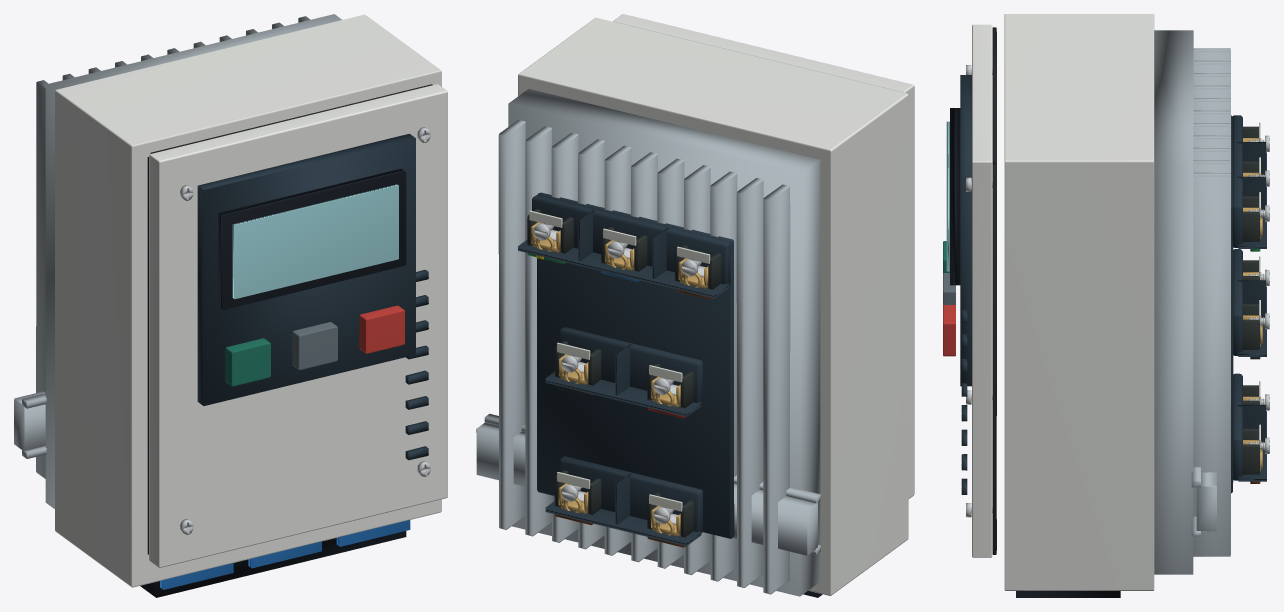
The model's file is battery_default.low.glb.
3 renders of one model, left to right at view 1: azimuth 30°, elevation 25°; view 2: azimuth 150°, elevation 25°; view 3: azimuth 270°, elevation 25°, orthographic. The views are drawn at different scales.
Visible parts, largest first — view 1: part:cover, part:body, part:cover · Original a463fd81, part:display, part:body · Original 2a8198d3, part:battery · Original 7cfa2338, part:battery, part:mounting · Original 2a8198d3, part:body.003, part:body.001, part:body.002, detail:enclosure-gasket-and-fixings · Detail rubber gasket (+1 smaller); view 2: part:body · Original 2a8198d3, part:body, part:terminals · Original a463fd81, part:cover, part:mounting · Original 2a8198d3, detail:terminal-clamp:- · Detail moulded engineering polymer, detail:terminal-clamp:PE · Detail moulded engineering polyme, detail:terminal-clamp:+ · Detail moulded engineering polymer, detail:terminal-clamp:BL · Detail moulded engineering polyme, detail:terminal-clamp:BN · Detail moulded engineering polyme, detail:terminal-clamp:N · Detail moulded engineering polymer, detail:terminal-clamp:L · Detail moulded engineering polymer; view 3: part:body, part:body · Original 2a8198d3, part:cover, part:terminals · Original a463fd81, part:cover · Original a463fd81, detail:enclosure-gasket-and-fixings · Detail rubber gasket, part:display, part:mounting · Original 2a8198d3, detail:terminal-clamp:- · Detail moulded engineering polymer, part:battery, detail:terminal-clamp:BN · Detail moulded engineering polyme, detail:terminal-clamp:PE · Detail moulded engineering polyme (+1 smaller).
Part boxes in pixels (x1=…): part:cover: x1=149, y1=84, x2=447, y2=567; part:body: x1=55, y1=14, x2=441, y2=587; part:cover · Original a463fd81: x1=197, y1=133, x2=428, y2=460; part:display: x1=218, y1=168, x2=406, y2=309; part:body · Original 2a8198d3: x1=36, y1=14, x2=341, y2=508; part:battery · Original 7cfa2338: x1=160, y1=520, x2=410, y2=589; part:battery: x1=140, y1=531, x2=406, y2=597; part:mounting · Original 2a8198d3: x1=14, y1=391, x2=46, y2=458; part:body.003: x1=359, y1=305, x2=404, y2=353; part:body.001: x1=225, y1=338, x2=270, y2=386; part:body.002: x1=292, y1=322, x2=337, y2=369; detail:enclosure-gasket-and-fixings · Detail rubber gasket: x1=147, y1=84, x2=432, y2=554; part:body · Original 2a8198d3: x1=498, y1=89, x2=820, y2=596; part:body: x1=518, y1=17, x2=908, y2=595; part:terminals · Original a463fd81: x1=518, y1=192, x2=734, y2=546; part:cover: x1=613, y1=14, x2=914, y2=498; part:mounting · Original 2a8198d3: x1=476, y1=413, x2=820, y2=555; detail:terminal-clamp:- · Detail moulded engineering polymer: x1=555, y1=341, x2=601, y2=395; detail:terminal-clamp:PE · Detail moulded engineering polyme: x1=527, y1=209, x2=573, y2=253; detail:terminal-clamp:+ · Detail moulded engineering polymer: x1=647, y1=363, x2=693, y2=408; detail:terminal-clamp:BL · Detail moulded engineering polyme: x1=647, y1=493, x2=693, y2=537; detail:terminal-clamp:BN · Detail moulded engineering polyme: x1=555, y1=470, x2=601, y2=515; detail:terminal-clamp:N · Detail moulded engineering polymer: x1=601, y1=227, x2=647, y2=271; detail:terminal-clamp:L · Detail moulded engineering polymer: x1=675, y1=245, x2=721, y2=289; part:body: x1=1004, y1=14, x2=1154, y2=590; part:body · Original 2a8198d3: x1=1154, y1=30, x2=1230, y2=574; part:cover: x1=972, y1=24, x2=992, y2=557; part:terminals · Original a463fd81: x1=1231, y1=115, x2=1266, y2=493; part:cover · Original a463fd81: x1=960, y1=75, x2=971, y2=494; detail:enclosure-gasket-and-fixings · Detail rubber gasket: x1=992, y1=27, x2=996, y2=554; part:display: x1=946, y1=108, x2=960, y2=285; part:mounting · Original 2a8198d3: x1=1191, y1=467, x2=1216, y2=536; detail:terminal-clamp:- · Detail moulded engineering polymer: x1=1243, y1=304, x2=1260, y2=359; part:battery: x1=1016, y1=591, x2=1120, y2=597; detail:terminal-clamp:BN · Detail moulded engineering polyme: x1=1243, y1=428, x2=1260, y2=474; detail:terminal-clamp:PE · Detail moulded engineering polyme: x1=1243, y1=196, x2=1260, y2=241.
Size of the model in its own units: 1.16 by 1.57 by 1.03.
